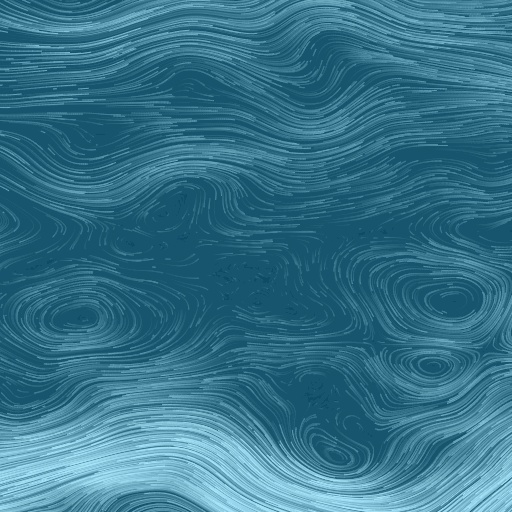eddy: (22, 286, 138, 345), (395, 263, 494, 332), (133, 178, 202, 238), (397, 342, 466, 387), (304, 424, 361, 471)
